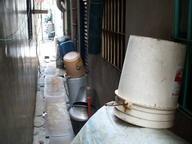bucket: (112, 33, 189, 130), (63, 51, 87, 77), (73, 85, 96, 107)
